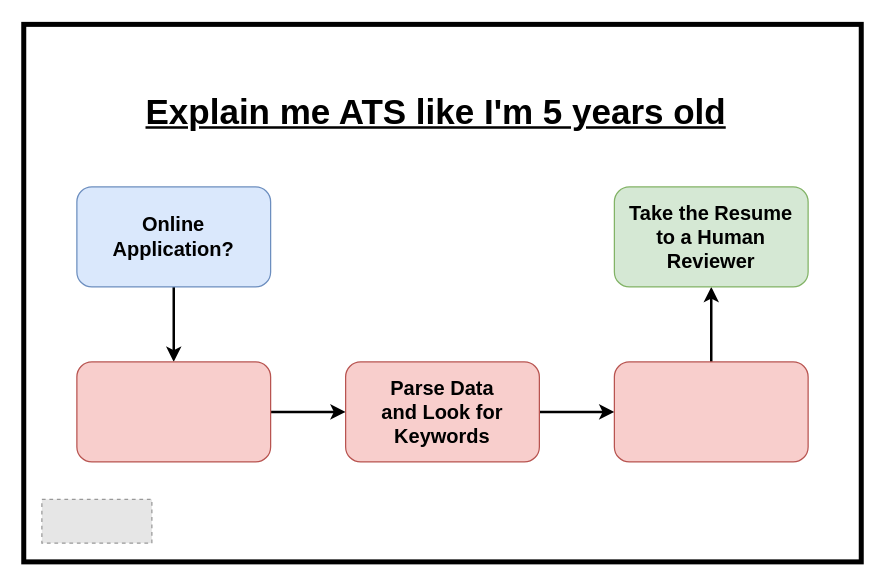
This 885x585 diagram has some shape labels left out. Grey dashed boxes stand in for pictures. Here are the shapes that lost their labels. From the top down, the centre of each, then its label:
At point (173, 411): "ATS (Applicant Tracking System)".
At point (710, 411): "Pick Best Match(es)".
